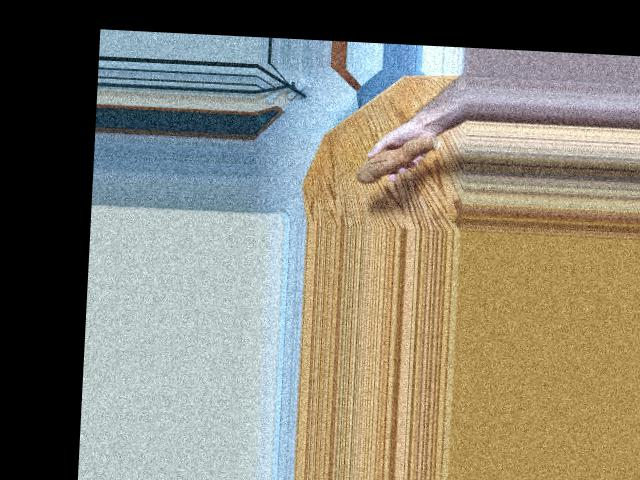sweet_potato: (352, 126, 442, 187)
